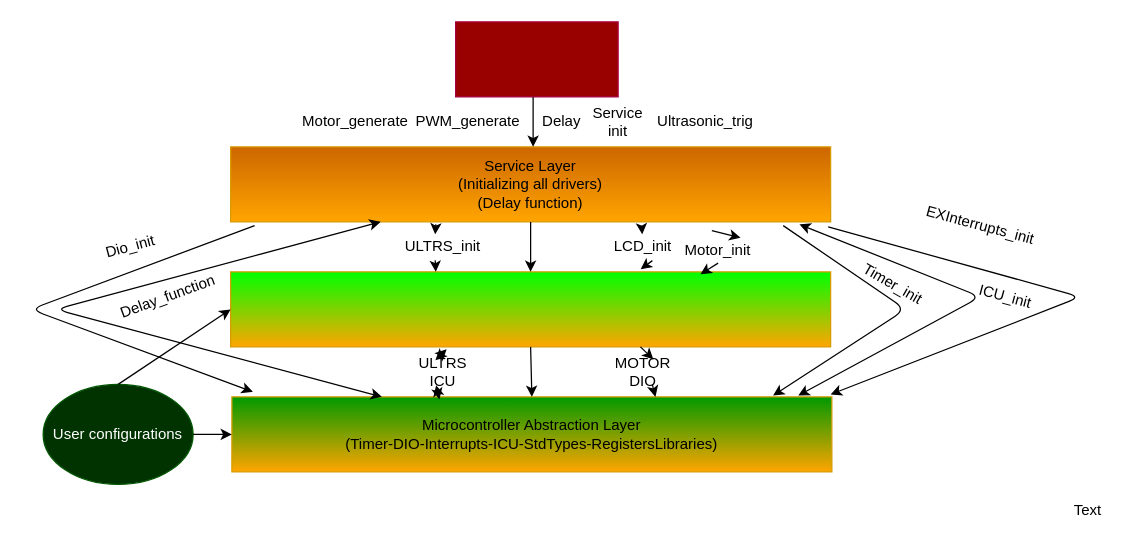
This 1144x545 diagram has some shape labels left out. Here are the shapes that lost their labels. From the top down, the box of each, then its label:
(454, 21, 618, 97): Application Layer
(229, 271, 831, 347): Hardware Abstraction Layer (Ultrasonic driver-LCD driver-Motor driver)
